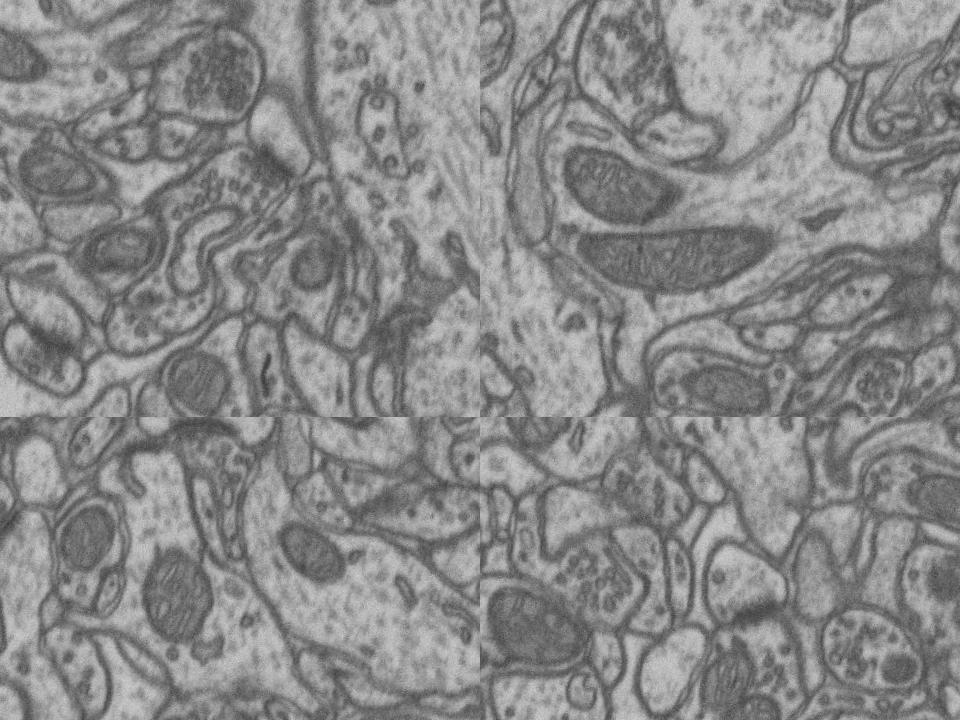mitochondria: (574, 220, 784, 300), (556, 140, 685, 229), (132, 537, 221, 654), (481, 580, 594, 672), (267, 508, 350, 588), (10, 141, 110, 207), (44, 496, 118, 582), (76, 216, 164, 283), (161, 342, 239, 417), (679, 359, 774, 417), (0, 0, 55, 94), (694, 643, 762, 712), (280, 234, 344, 298), (497, 417, 582, 457), (909, 468, 960, 531), (713, 689, 784, 720), (298, 417, 383, 441), (900, 386, 960, 417)
